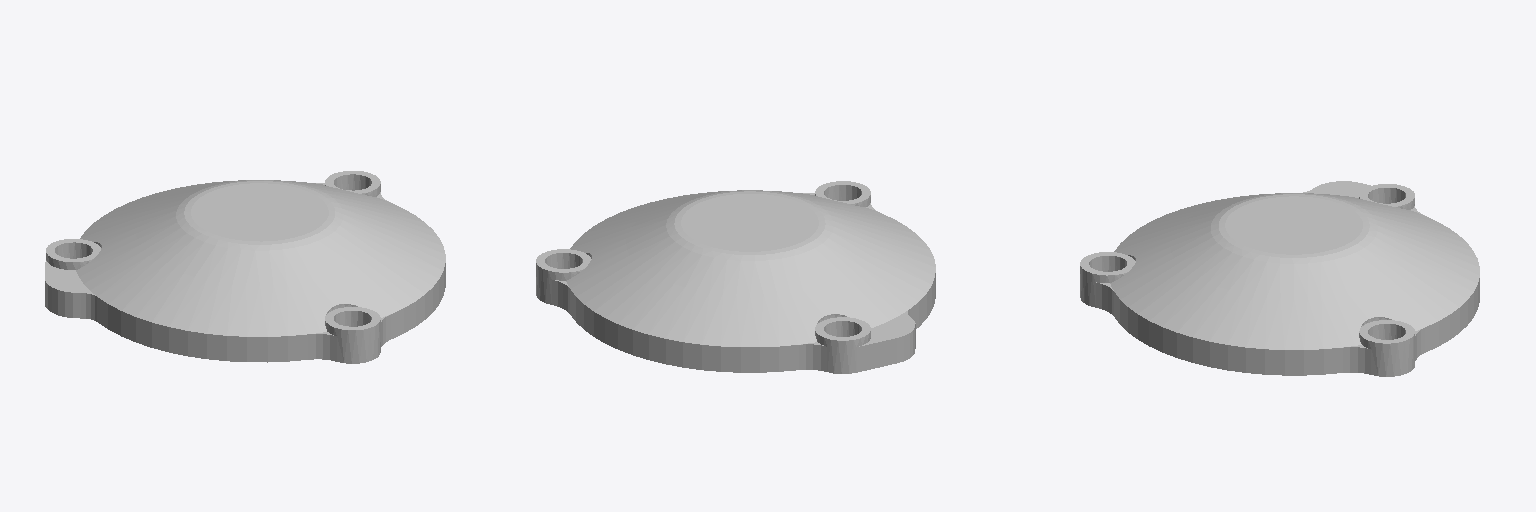
Rendered from 64. Крышка подшипника.obj.
3 renders of one model, left to right at view 1: azimuth 30°, elevation 25°; view 2: azimuth 150°, elevation 25°; view 3: azimuth 270°, elevation 25°, orthographic.
Parts seen in each view (by area): view 1: Твердое тело1; view 2: Твердое тело1; view 3: Твердое тело1.
Boxes of the visible parts, box(x1,y1,x2,y2) form: Твердое тело1: box(45, 171, 445, 363); Твердое тело1: box(536, 181, 935, 373); Твердое тело1: box(1080, 181, 1479, 376).
Bounding box in the file's own units: 115 × 22.5 × 114.